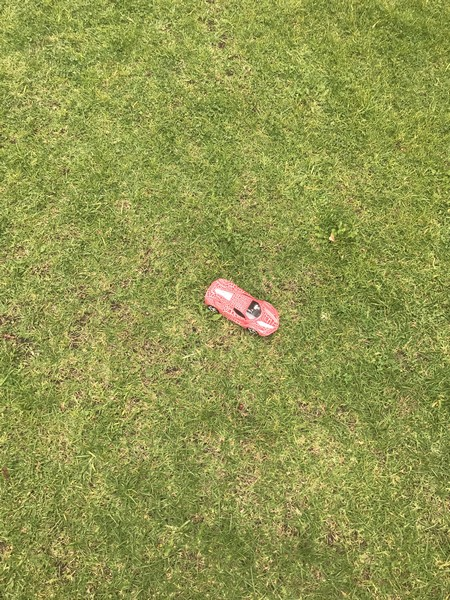RC: (203, 276, 282, 339)
